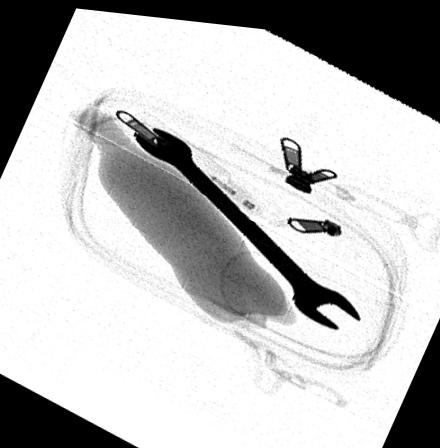Wrench: (133, 122, 362, 323)
